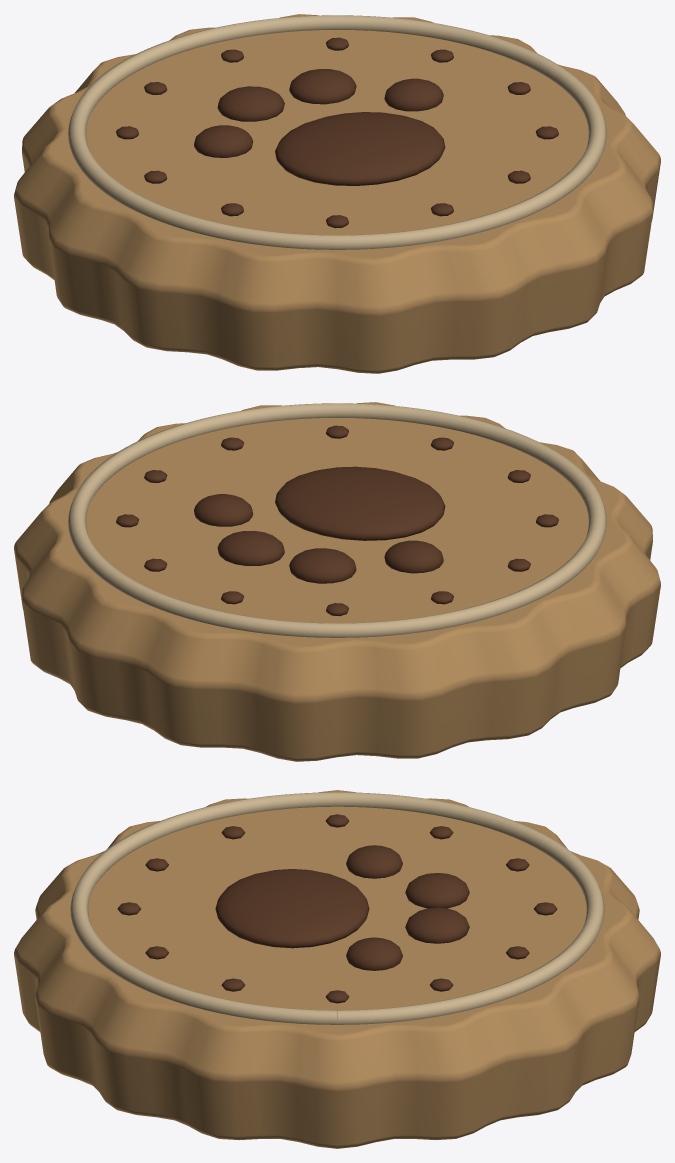
The model's file is weapon_cookie_atelier.glb.
3 views of the same model, one above another, from view 1: azimuth 30°, elevation 25°; view 2: azimuth 150°, elevation 25°; view 3: azimuth 270°, elevation 25° (orthographic).
Visible parts, largest first — view 1: weapon_cookie_atelier__TaggedPainted_weapon_cookie_crafted_M; view 2: weapon_cookie_atelier__TaggedPainted_weapon_cookie_crafted_M; view 3: weapon_cookie_atelier__TaggedPainted_weapon_cookie_crafted_M.
Part boxes in pixels (x1=…): weapon_cookie_atelier__TaggedPainted_weapon_cookie_crafted_M: x1=14, y1=14, x2=660, y2=373; weapon_cookie_atelier__TaggedPainted_weapon_cookie_crafted_M: x1=14, y1=402, x2=660, y2=761; weapon_cookie_atelier__TaggedPainted_weapon_cookie_crafted_M: x1=14, y1=790, x2=660, y2=1148.
Bounding box in the file's own units: 0.6466 × 0.148 × 0.6466.
